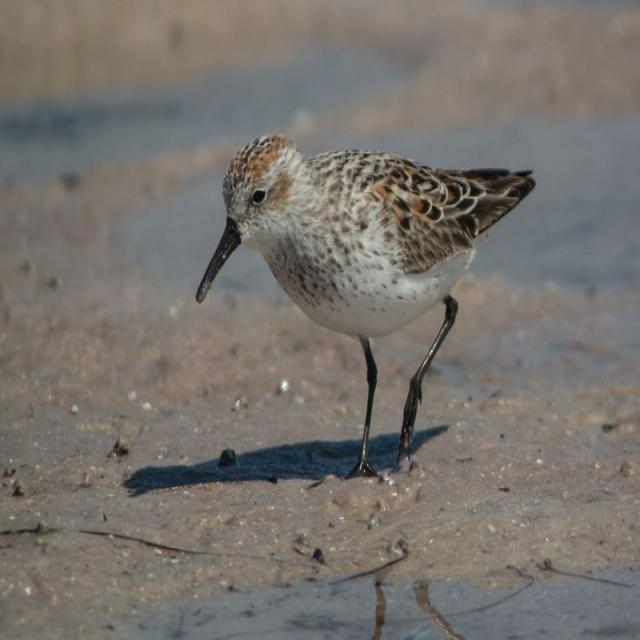Sandpiper: (195, 128, 537, 469)
